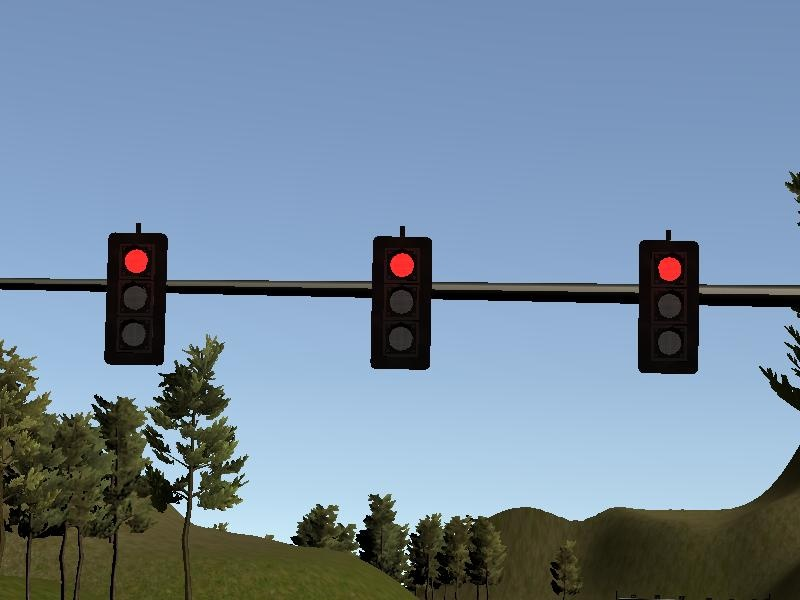RED: (105, 232, 168, 365), (368, 238, 431, 371), (636, 239, 699, 372)
